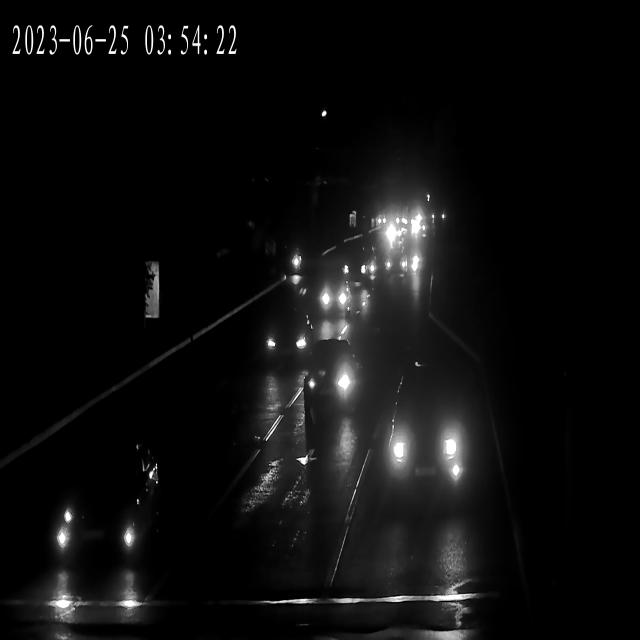Car: (40, 444, 163, 568), (375, 381, 472, 485), (304, 346, 364, 412), (255, 318, 310, 366), (317, 279, 354, 319), (338, 252, 377, 287), (382, 251, 418, 281), (387, 247, 423, 277), (379, 221, 403, 241), (380, 227, 406, 244), (391, 216, 413, 232), (432, 211, 451, 226), (372, 214, 392, 228), (429, 212, 448, 225)
